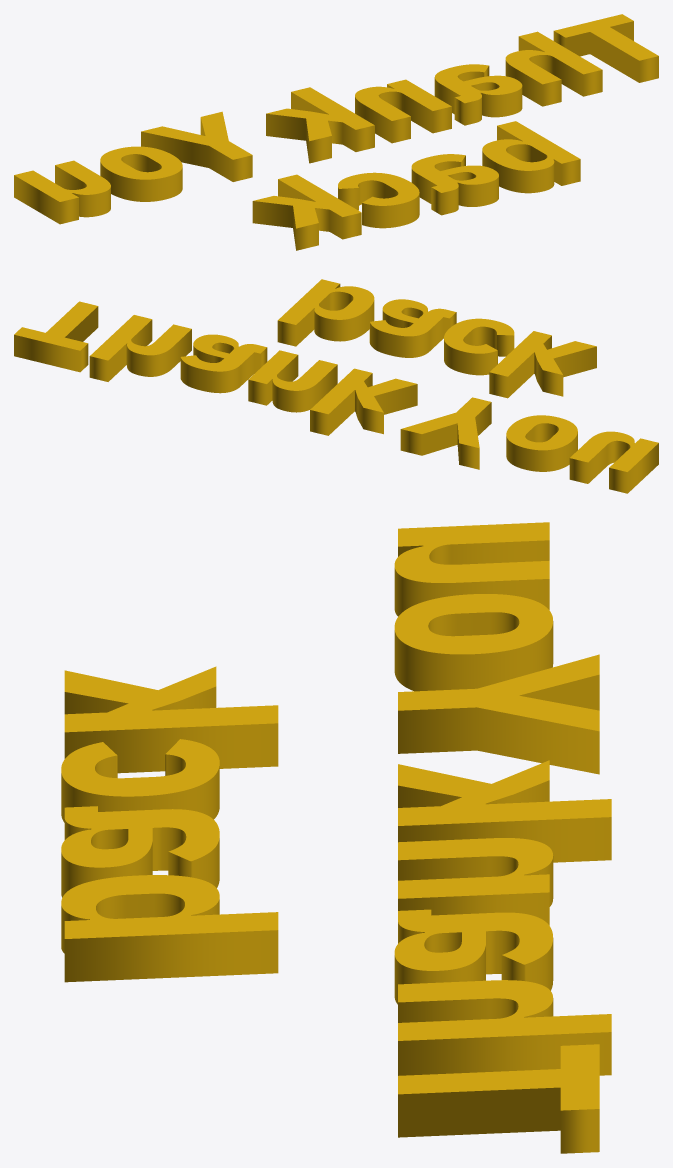
The model's file is thxback.glb.
The picture shows the model from 3 angles, top to bottom: view 1: azimuth 30°, elevation 25°; view 2: azimuth 150°, elevation 25°; view 3: azimuth 270°, elevation 25°; orthographic projection. The views are drawn at different scales.
Visible parts, largest first — view 1: Text.001; view 2: Text.001; view 3: Text.001.
Boxes of the visible parts, box(x1,y1,x2,y2) form: Text.001: box(14, 14, 658, 250); Text.001: box(14, 279, 658, 493); Text.001: box(61, 522, 611, 1153).
Size of the model in its own units: 4.38 by 0.15 by 1.73.
